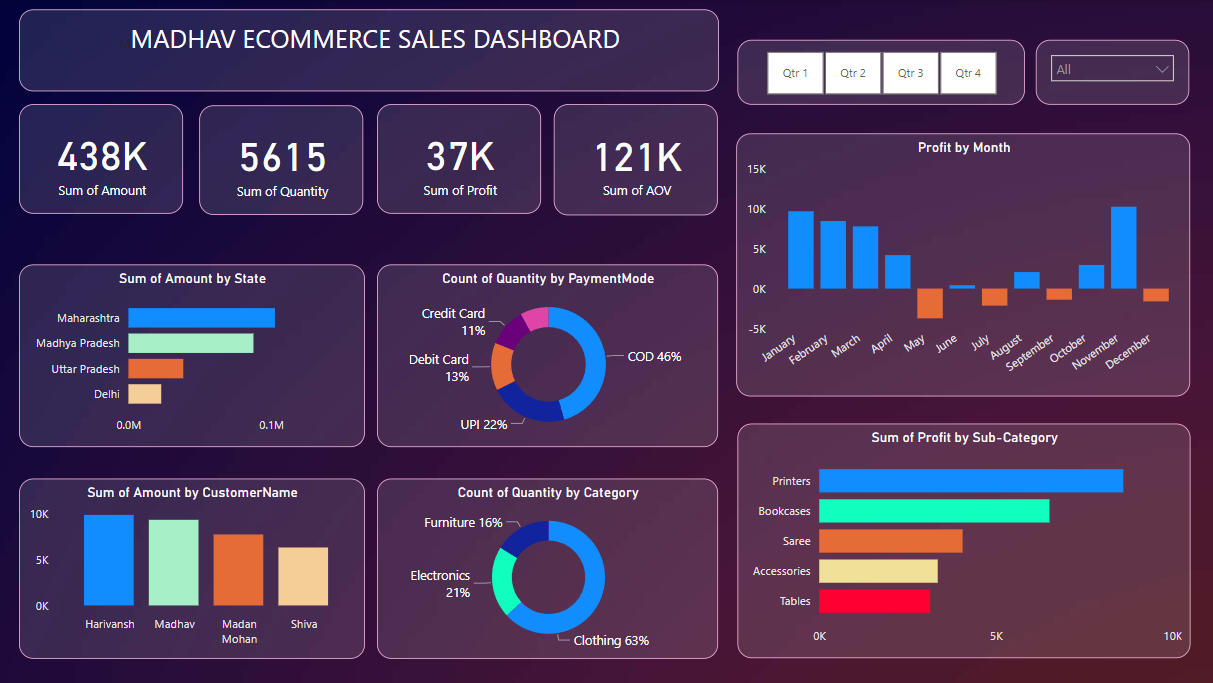

This screenshot's page, from the dashboard's own definition file:
{"tool":"powerbi","page":{"name":"Page 1","canvas":[1280,720],"ordinal":0},"visuals":[{"type":"textbox","box":[21.6,10.2,736.3,86.5],"z":0},{"type":"columnChart","title":" Profit by Month","fields":{"Y":["Details.Profit"],"Category":["Orders.Order Date.Variation.Date Hierarchy.Month"]},"box":[777,139.9,478.2,277.2],"z":1000},{"type":"barChart","fields":{"Category":["Details.Sub-Category"],"Y":["Details.Profit"]},"box":[778.3,446.4,476.9,246.7],"z":2000},{"type":"donutChart","fields":{"Category":["Details.Category"],"Y":["Details.Quantity"]},"box":[399.3,503.6,358.6,189.5],"z":3000},{"type":"donutChart","fields":{"Y":["Details.Quantity"],"Category":["Details.PaymentMode"]},"box":[399.3,278.5,358.6,192],"z":4000},{"type":"card","fields":{"Values":["Details.Amount"]},"box":[21.6,109.4,173,115.7],"z":4001},{"type":"card","fields":{"Values":["Details.Quantity"]},"box":[212.4,110.6,173,115.7],"z":4002},{"type":"card","fields":{"Values":["Details.Profit"]},"box":[399.3,109.4,173,115.7],"z":4003},{"type":"card","fields":{"Values":["Details.AOV"]},"box":[585,109.4,173,117],"z":4004},{"type":"barChart","fields":{"Category":["Orders.State"],"Y":["Details.Amount"]},"box":[21.6,278.5,363.7,192],"z":4005},{"type":"columnChart","fields":{"Category":["Orders.CustomerName"],"Y":["Details.Amount"]},"box":[21.6,503.6,363.7,189.5],"z":4006},{"type":"slicer","fields":{"Values":["Orders.Order Date.Variation.Date Hierarchy.Quarter"]},"box":[778.3,41.9,302.3,68.2],"z":4007},{"type":"slicer","fields":{"Values":["Orders.State"]},"box":[1093,41.9,161.2,68.2],"z":4008}]}

Visuals, with their boxes in screenshot pixels (x1, y1, x2, y2), scaled from the page's 1280x720 canvas onto the 1213x683 screenshot:
textbox: [left=20, top=10, right=718, bottom=92]
" Profit by Month" columnChart: [left=736, top=133, right=1189, bottom=396]
barChart - Details.Sub-Category x Details.Profit: [left=738, top=423, right=1189, bottom=657]
donutChart - Details.Category x Details.Quantity: [left=378, top=478, right=718, bottom=657]
donutChart - Details.Quantity x Details.PaymentMode: [left=378, top=264, right=718, bottom=446]
card - Details.Amount: [left=20, top=104, right=184, bottom=214]
card - Details.Quantity: [left=201, top=105, right=365, bottom=215]
card - Details.Profit: [left=378, top=104, right=542, bottom=214]
card - Details.AOV: [left=554, top=104, right=718, bottom=215]
barChart - Orders.State x Details.Amount: [left=20, top=264, right=365, bottom=446]
columnChart - Orders.CustomerName x Details.Amount: [left=20, top=478, right=365, bottom=657]
slicer - Orders.Order Date.Variation.Date Hierarchy.Quarter: [left=738, top=40, right=1024, bottom=104]
slicer - Orders.State: [left=1036, top=40, right=1189, bottom=104]
